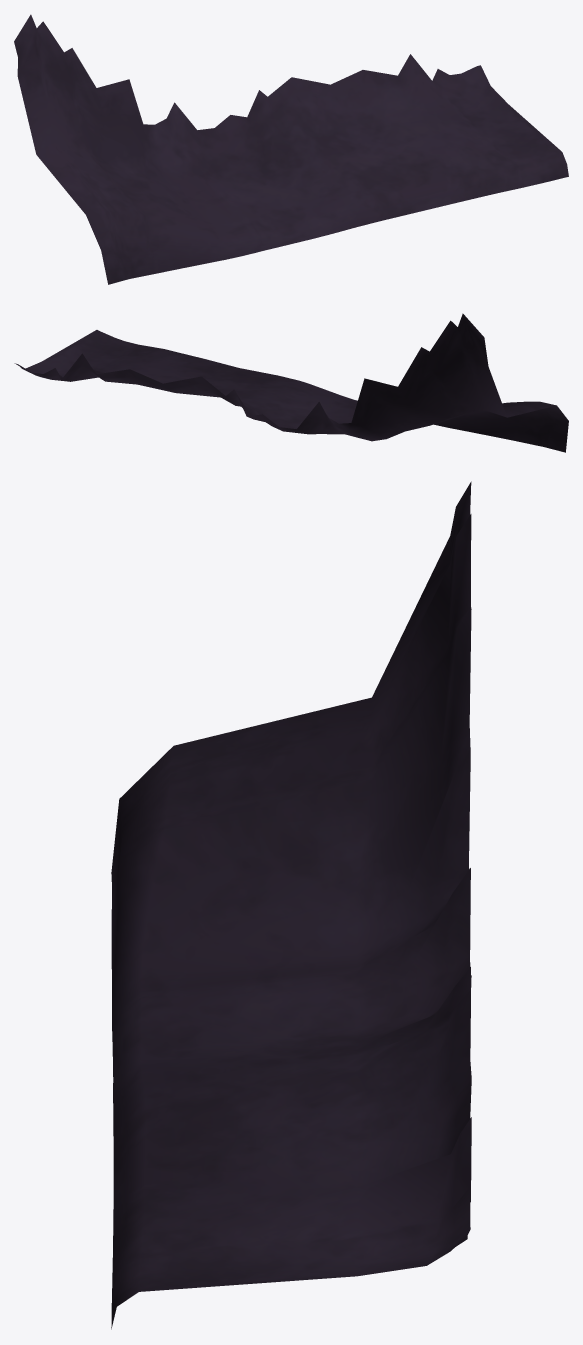
Rendered from Background1.fbx.
The picture shows the model from 3 angles, top to bottom: view 1: azimuth 30°, elevation 25°; view 2: azimuth 150°, elevation 25°; view 3: azimuth 270°, elevation 25°; orthographic projection. The views are drawn at different scales.
Parts seen in each view (by area): view 1: Background1_Reto; view 2: Background1_Reto; view 3: Background1_Reto.
Part boxes in pixels (x1,y1,x2,y2): Background1_Reto: (14, 14, 568, 284); Background1_Reto: (14, 313, 568, 452); Background1_Reto: (111, 481, 471, 1329).
Bounding box in the file's own units: 1479 × 622 × 493.
